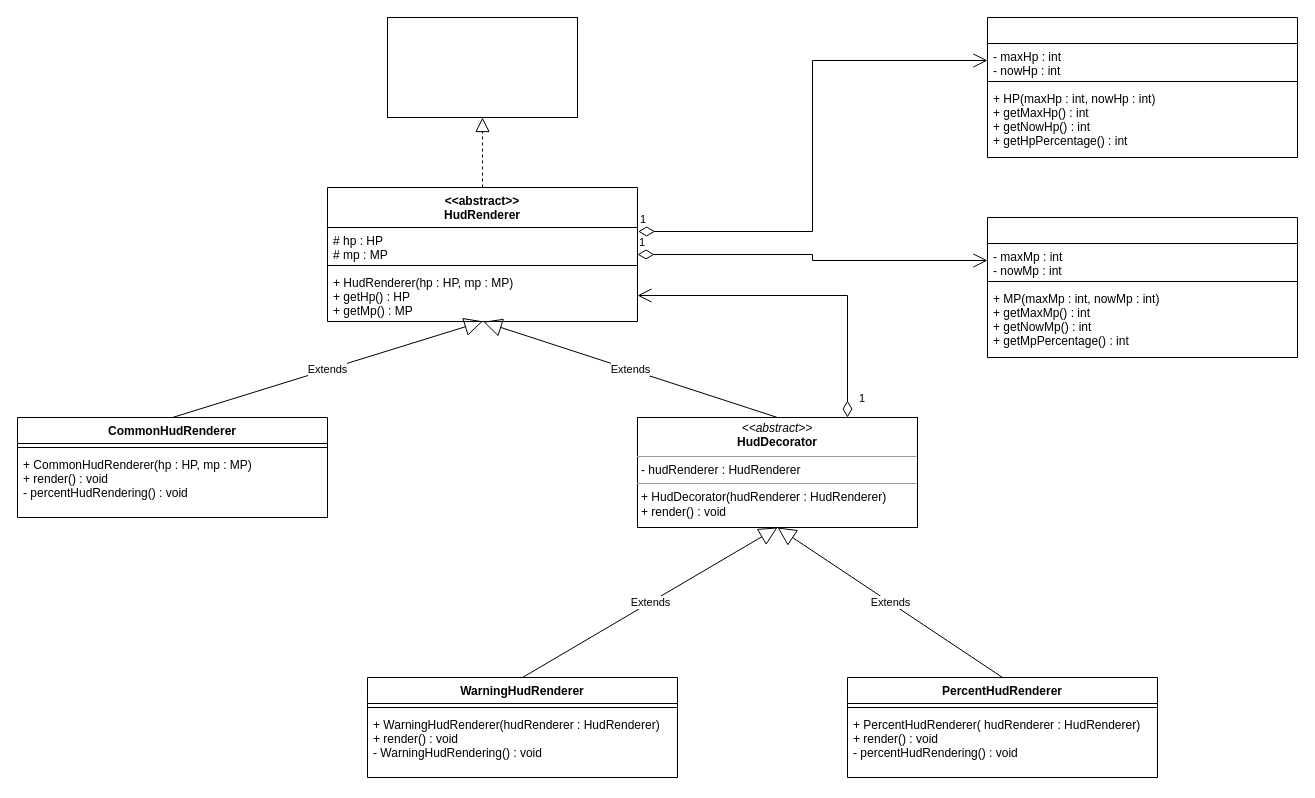
This 1315x798 diagram has some shape labels left out. Each missing label, with the box of its shape:
<<Interface>> Renderable + render() : void: (386, 16, 578, 118)
HP: (986, 16, 1298, 158)
MP: (986, 216, 1298, 358)
